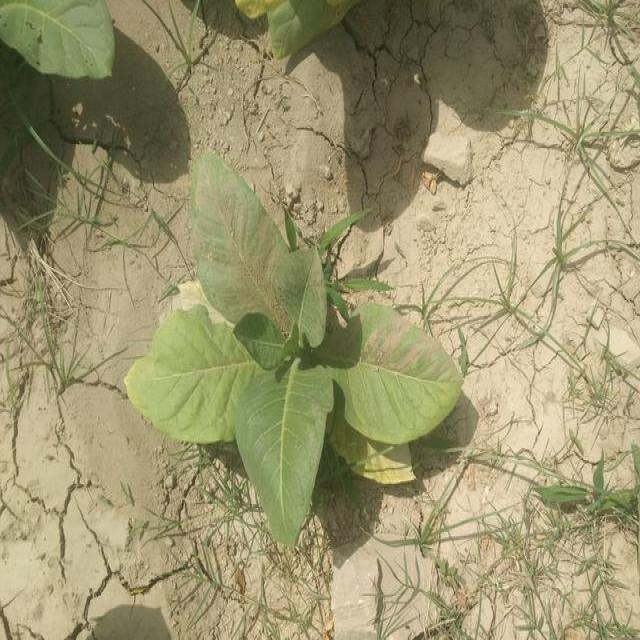crop: (128, 163, 467, 526), (0, 0, 118, 80), (236, 0, 357, 64)
